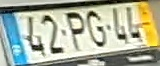2: (38, 12, 65, 55)
4: (27, 14, 47, 58), (111, 6, 128, 45), (126, 5, 143, 43)
G: (84, 8, 108, 48)
P: (64, 11, 87, 53)
